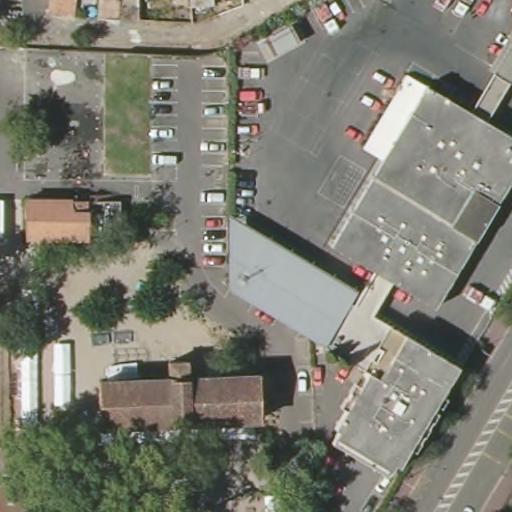pool: (84, 4, 100, 21)
